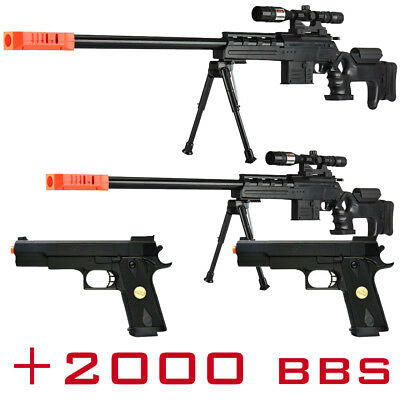Arma Falsa: (1, 5, 400, 114), (41, 152, 397, 241), (7, 235, 171, 342), (230, 236, 400, 331)
